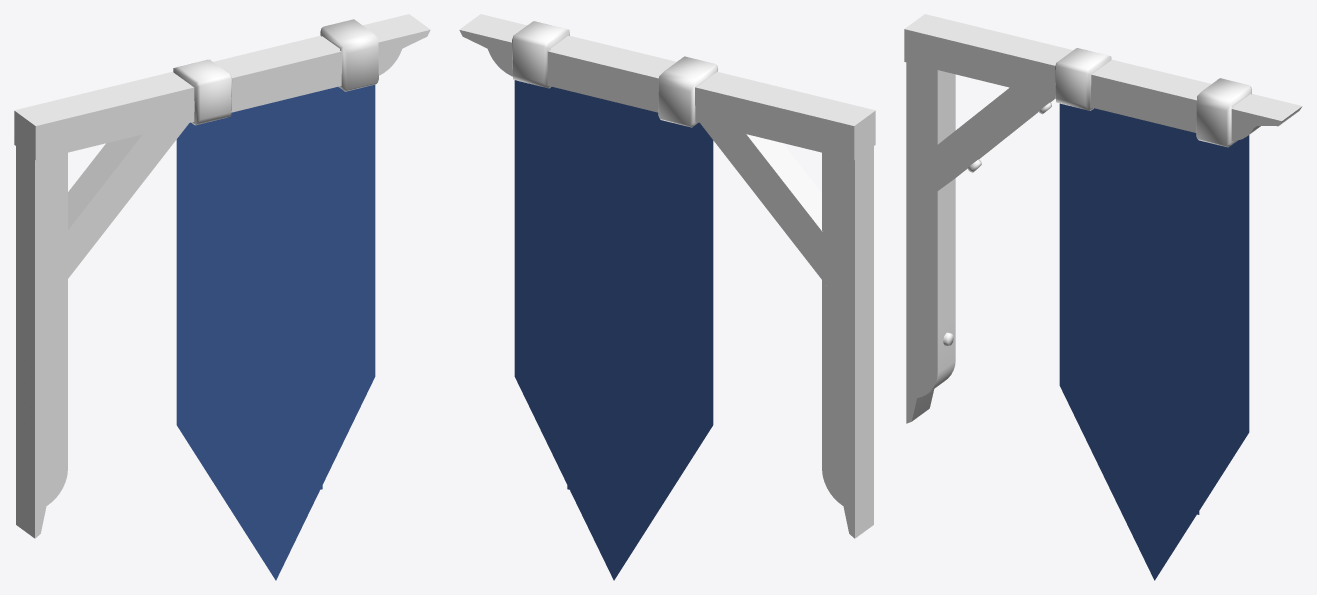
The model's file is extra_banner_variant.glb.
3 renders of one model, left to right at view 1: azimuth 30°, elevation 25°; view 2: azimuth 150°, elevation 25°; view 3: azimuth 330°, elevation 25°, orthographic. The views are drawn at different scales.
Parts seen in each view (by area): view 1: Cube236_2, Cube236, Cube236_1; view 2: Cube236_2, Cube236, Cube236_1; view 3: Cube236_2, Cube236, Cube236_1.
Part boxes in pixels (box(x1,y1,x2,y2)): Cube236_2: box(176, 84, 375, 580); Cube236: box(14, 14, 430, 538); Cube236_1: box(173, 19, 378, 125); Cube236_2: box(514, 80, 713, 580); Cube236: box(459, 14, 875, 538); Cube236_1: box(512, 21, 717, 127); Cube236_2: box(1059, 103, 1249, 580); Cube236: box(904, 14, 1302, 423); Cube236_1: box(943, 48, 1251, 345).
Size of the model in its own units: 1.61 by 2.08 by 0.1906.
